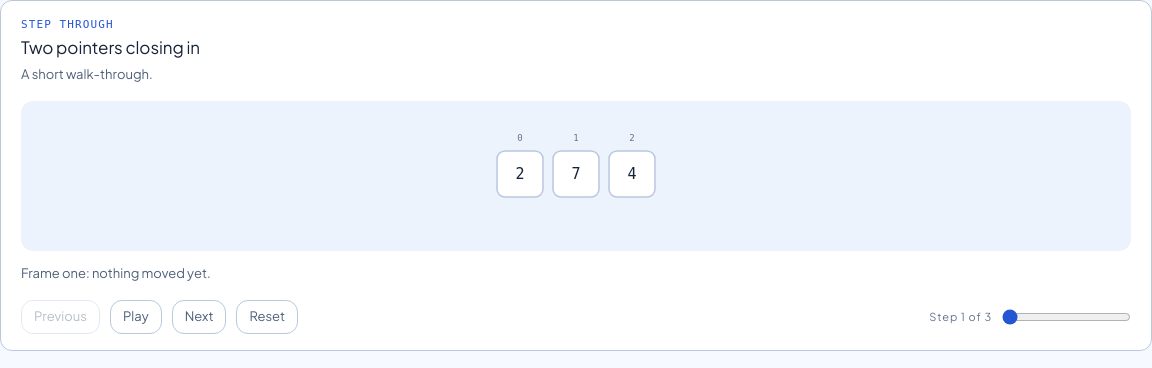
Test: VizBlock › reset returns to frame 0
Click the button "Next": (199, 317) left=172, top=300, right=226, bottom=334
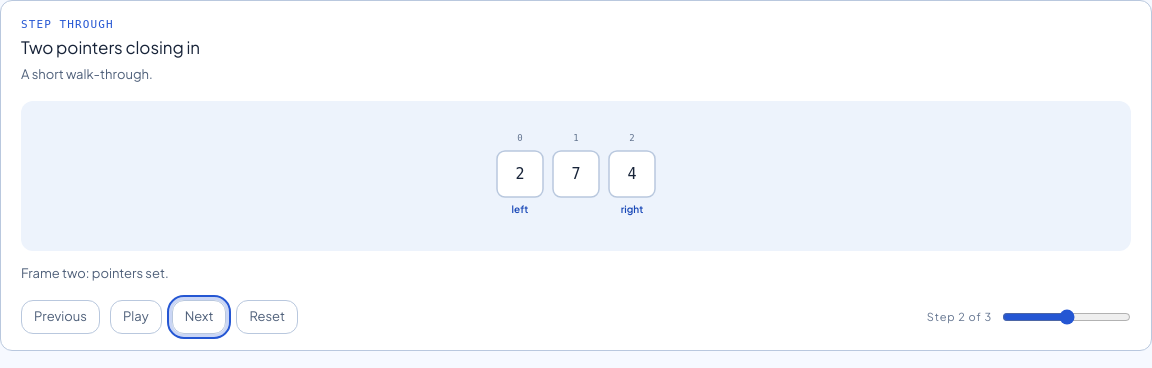
Click the button "Reset": (267, 317) left=236, top=300, right=298, bottom=334
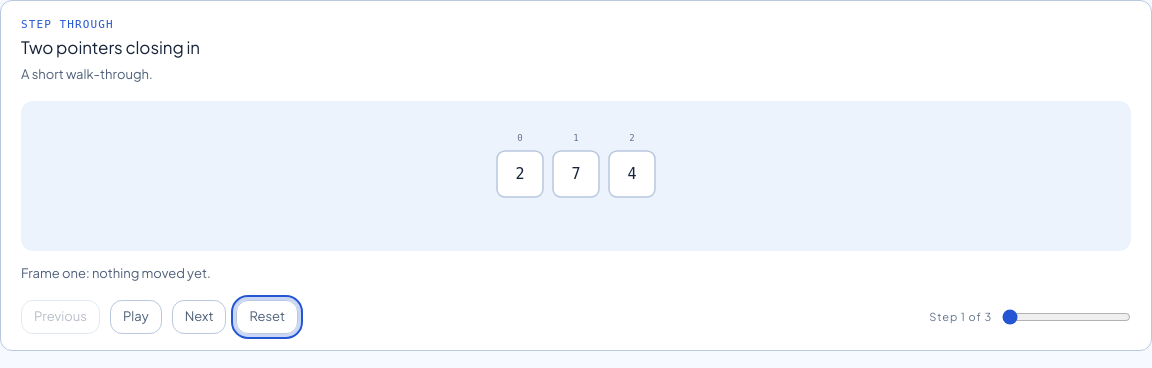
Check: the message reads "Frame one: nothing moved yet.", box left=21, top=265, right=211, bottom=281
